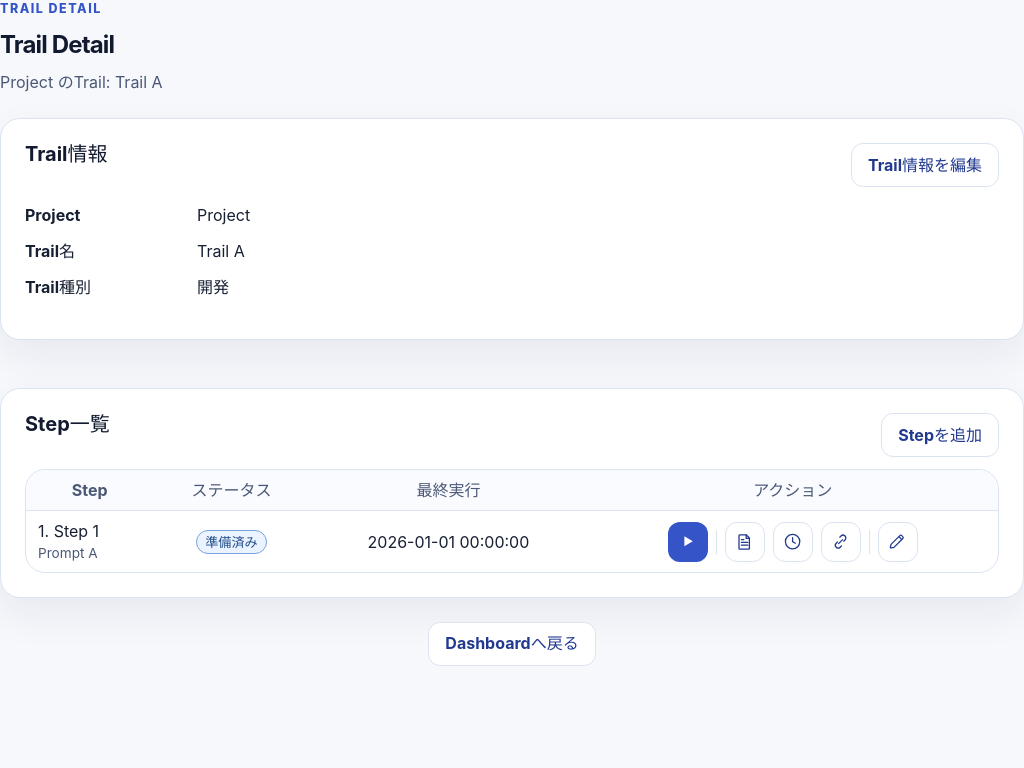
TrailDetailPage Link form › rejects an empty Link title without saving
The image size is (1024, 768).
Expected: the text "Prompt A" is shown, [38, 545, 98, 561]
Click the button named "関連リンクを表示": x=841, y=542 [821, 522, 861, 562]
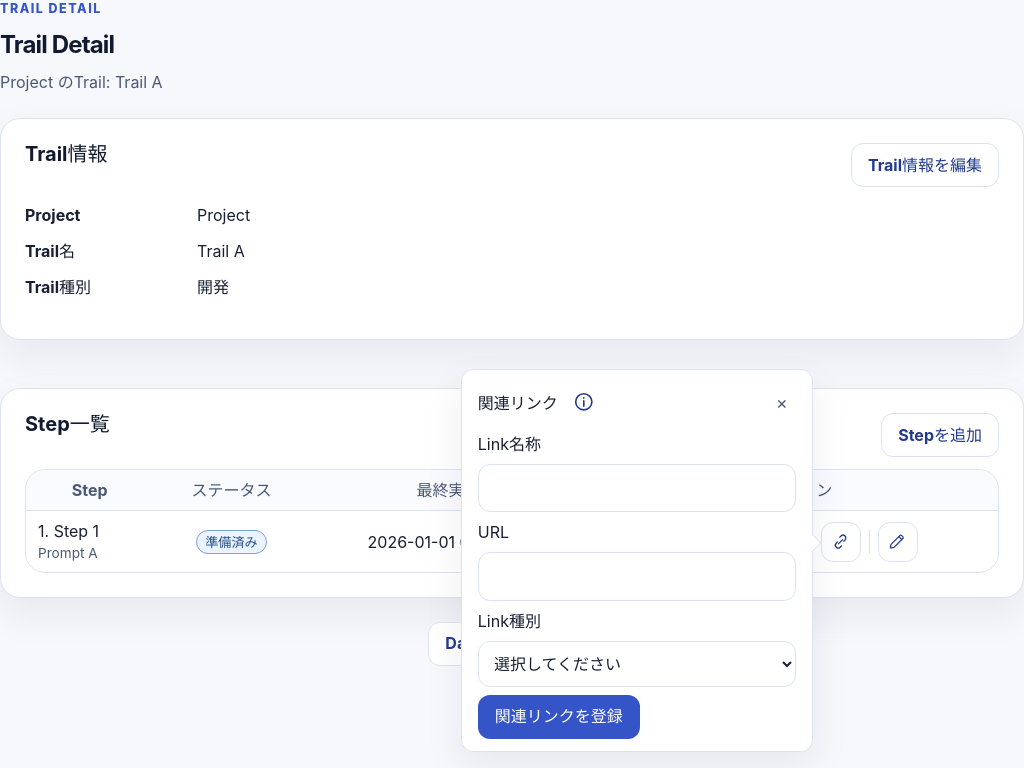
In the field labelled "URL": x=637, y=576 [478, 552, 796, 601], type "https://example.com"
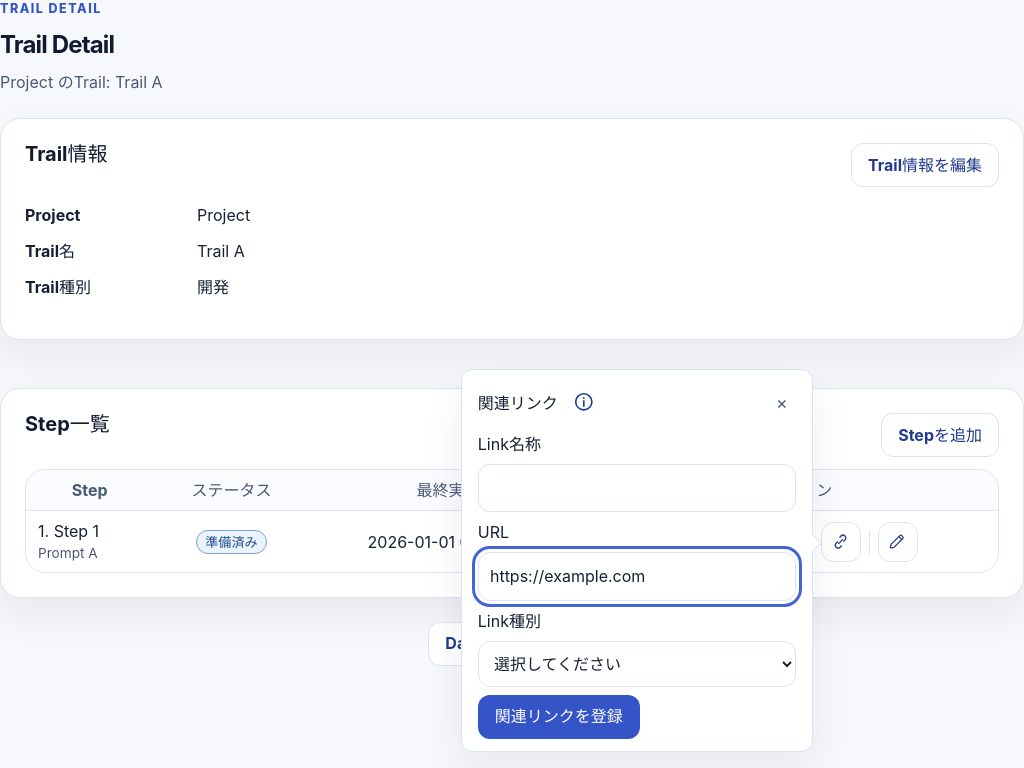
Select "Document" in the dropdown labelled "Link種別": x=637, y=664 [478, 641, 796, 687]
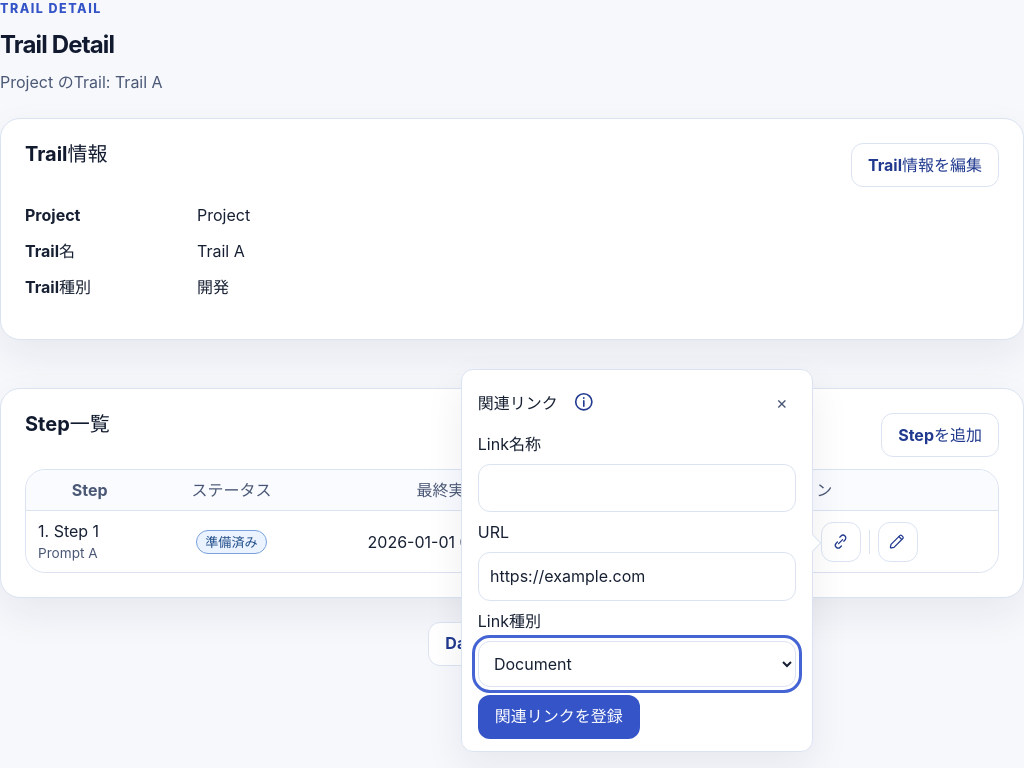
Click the button "関連リンクを登録": x=559, y=717 [478, 695, 640, 739]
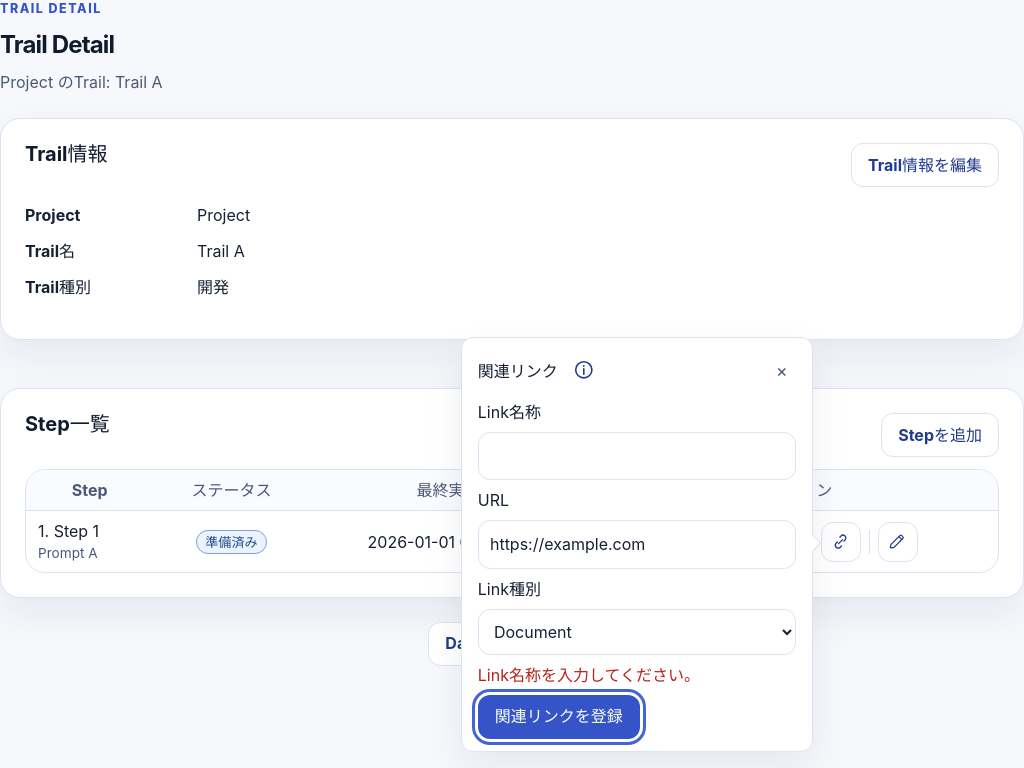
Expected: the text "Link名称を入力してください。" is shown, [478, 665, 700, 685]
